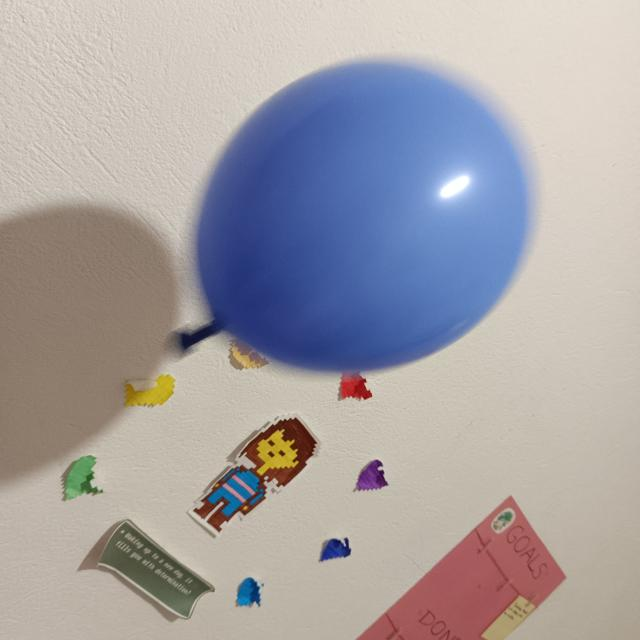blue: (198, 57, 532, 377)
